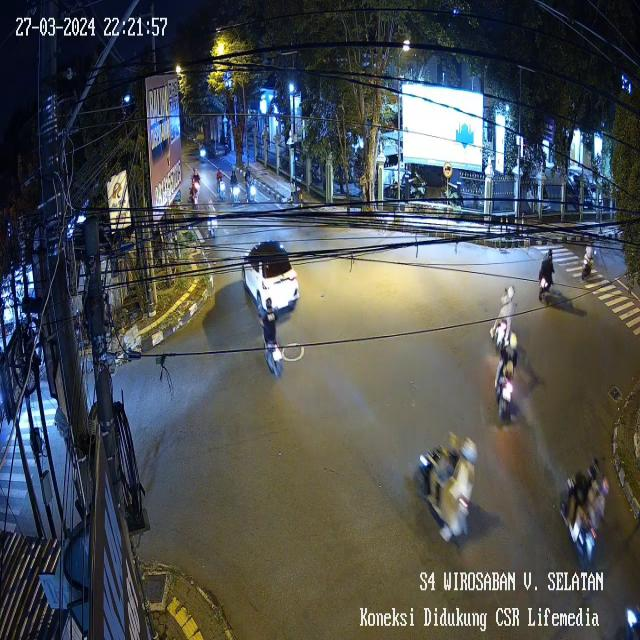car: (238, 237, 306, 323)
motorcycle: (412, 430, 481, 548), (556, 454, 605, 564), (490, 339, 520, 427), (491, 280, 517, 354), (536, 245, 557, 305), (241, 165, 261, 212), (579, 240, 599, 286), (202, 196, 220, 241), (183, 182, 203, 219), (229, 164, 243, 209), (624, 602, 640, 640), (214, 165, 228, 204), (190, 169, 203, 195), (196, 138, 208, 164)
